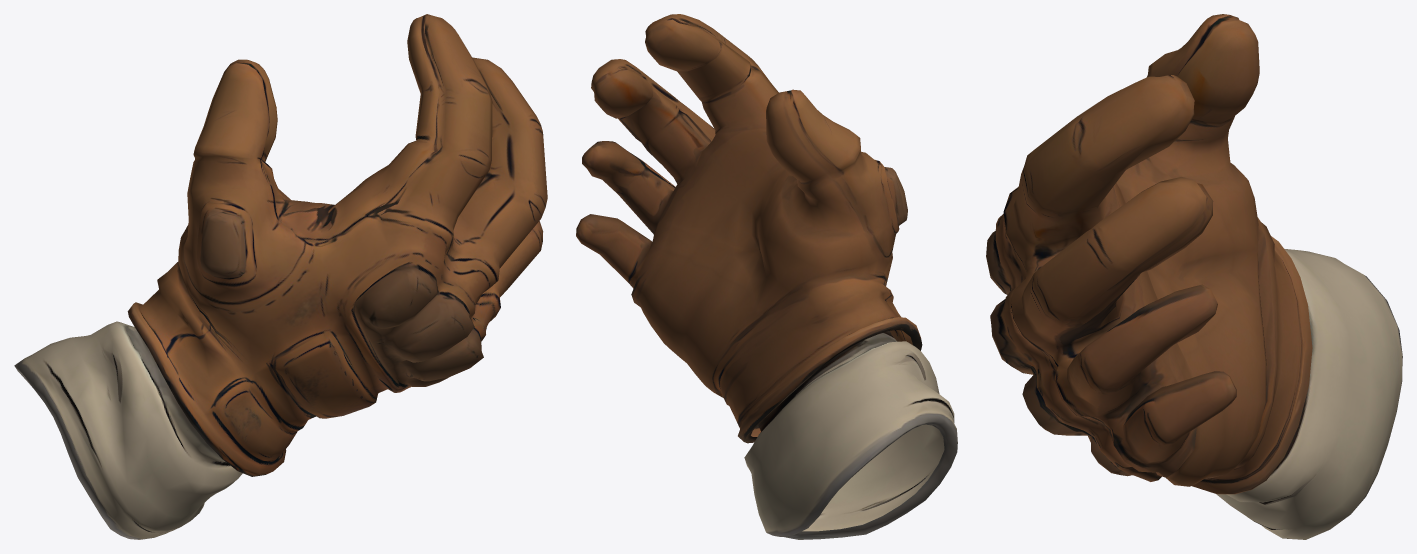
The model's file is fp_glove_support.glb.
3 views of the same model, side by side, from view 1: azimuth 30°, elevation 25°; view 2: azimuth 150°, elevation 25°; view 3: azimuth 270°, elevation 25° (orthographic). The views are drawn at different scales.
Visible parts, largest first — view 1: fp_glove_support; view 2: fp_glove_support; view 3: fp_glove_support.
Part boxes in pixels (<box>): fp_glove_support: <box>14,14,547,539</box>; fp_glove_support: <box>576,14,957,539</box>; fp_glove_support: <box>986,14,1402,539</box>.
Bounding box in the file's own units: 0.8804 × 0.9644 × 0.6372.
Materials: 1 (1 with a texture image).
